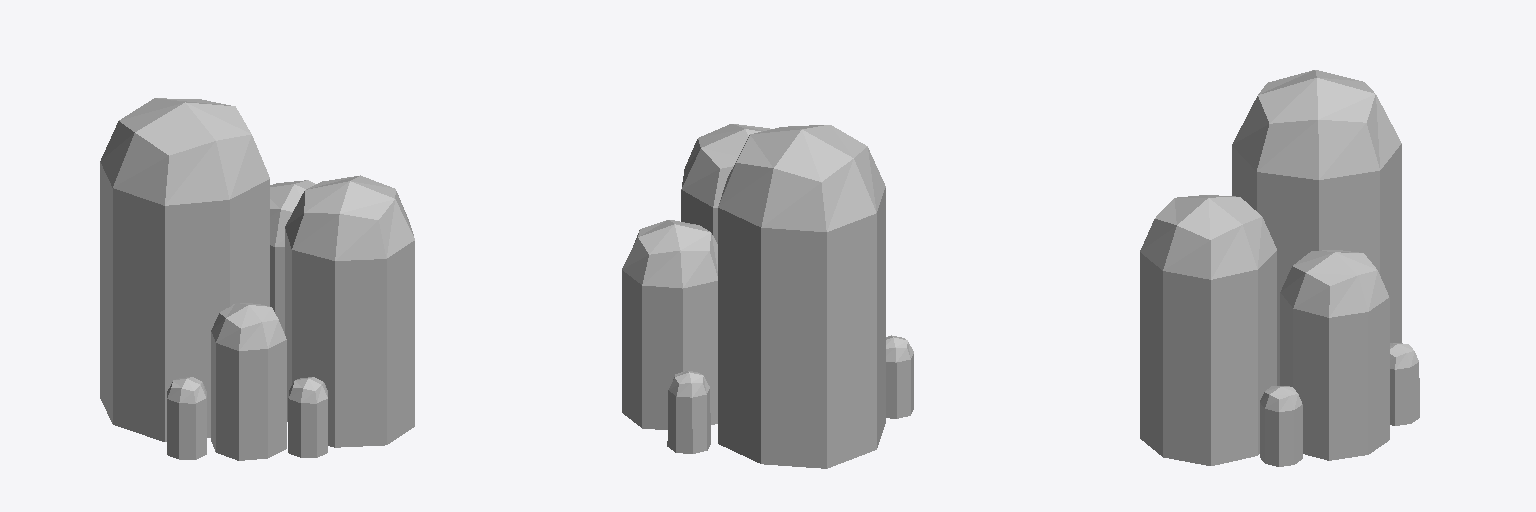
Rendered from RockS_1.obj.
3 renders of one model, left to right at view 1: azimuth 30°, elevation 25°; view 2: azimuth 150°, elevation 25°; view 3: azimuth 270°, elevation 25°, orthographic.
Visible parts, largest first — view 1: Plane.001; view 2: Plane.001; view 3: Plane.001.
Part boxes in pixels (left/top/right/bottom): Plane.001: left=100, top=98, right=414, bottom=460; Plane.001: left=622, top=124, right=913, bottom=468; Plane.001: left=1140, top=70, right=1419, bottom=466.
Bounding box in the file's own units: 1.64 × 1.9 × 1.58.